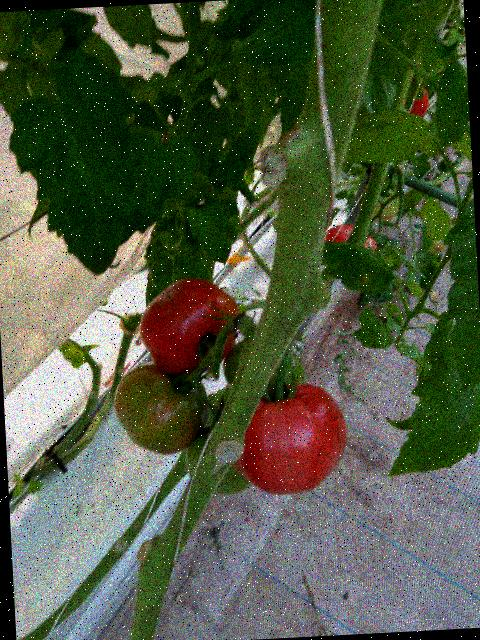b_fully_ripened: (230, 379, 351, 498), (137, 276, 241, 377), (323, 223, 376, 254)
b_green: (112, 358, 212, 457), (369, 188, 401, 221)
